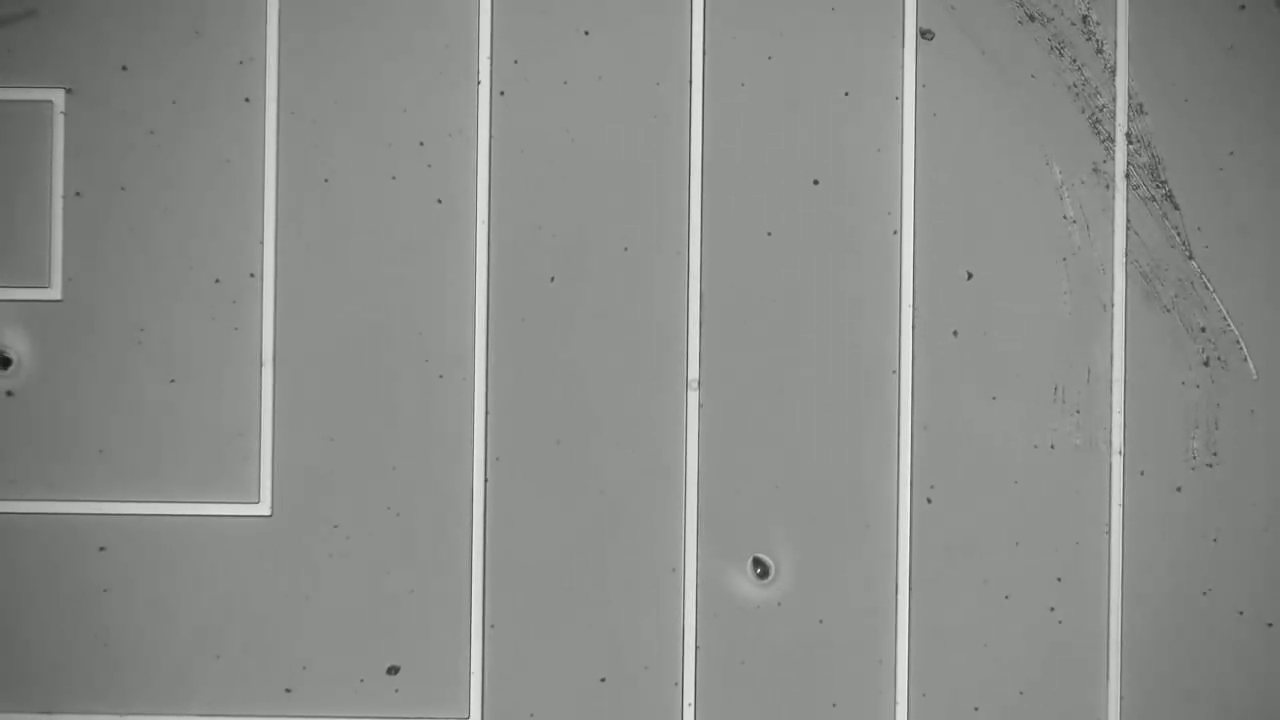scratch: (1001, 1, 1242, 365)
